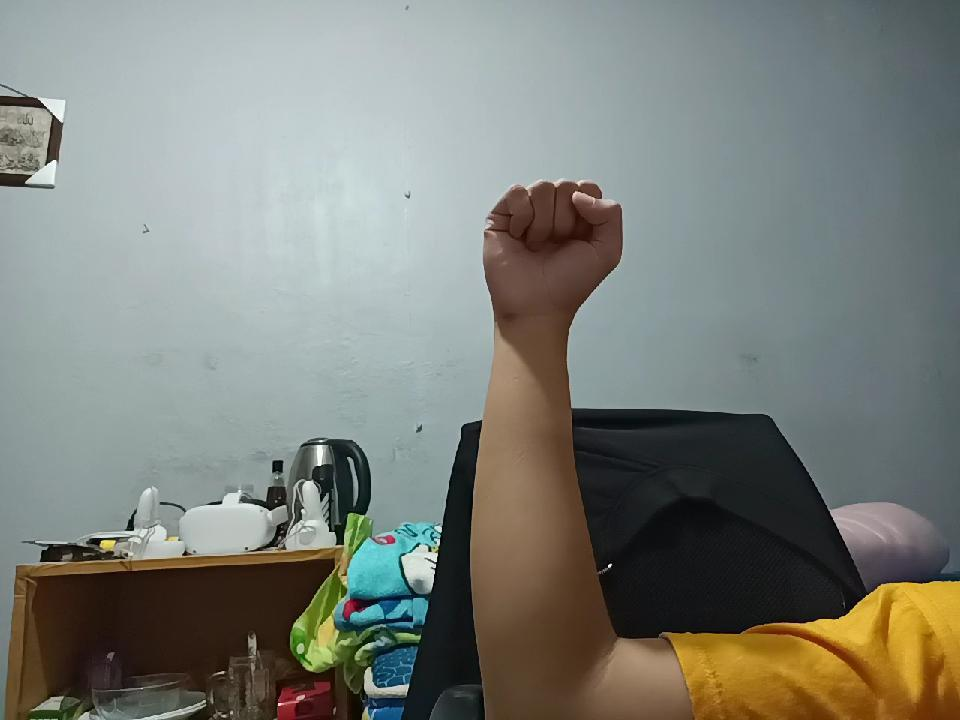rock: (478, 170, 630, 332)
